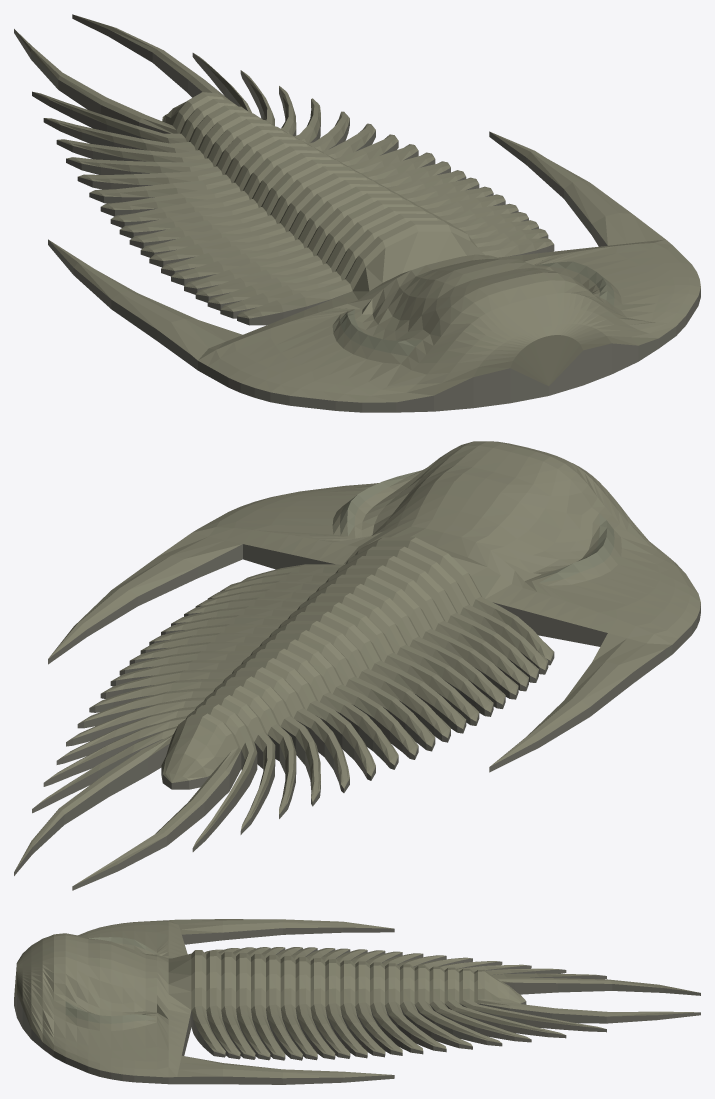
3 renders of one model, top to bottom at view 1: azimuth 30°, elevation 25°; view 2: azimuth 150°, elevation 25°; view 3: azimuth 270°, elevation 25°, orthographic. The views are drawn at different scales.
Visible parts, largest first — view 1: continuous-fossil-dorsal-exoskeleton; view 2: continuous-fossil-dorsal-exoskeleton; view 3: continuous-fossil-dorsal-exoskeleton.
Boxes of the visible parts, <box> form: continuous-fossil-dorsal-exoskeleton: <box>14,14,700,412</box>; continuous-fossil-dorsal-exoskeleton: <box>14,441,700,890</box>; continuous-fossil-dorsal-exoskeleton: <box>14,919,700,1084</box>.
Size of the model in its own units: 0.1312 by 0.0234 by 0.24.
